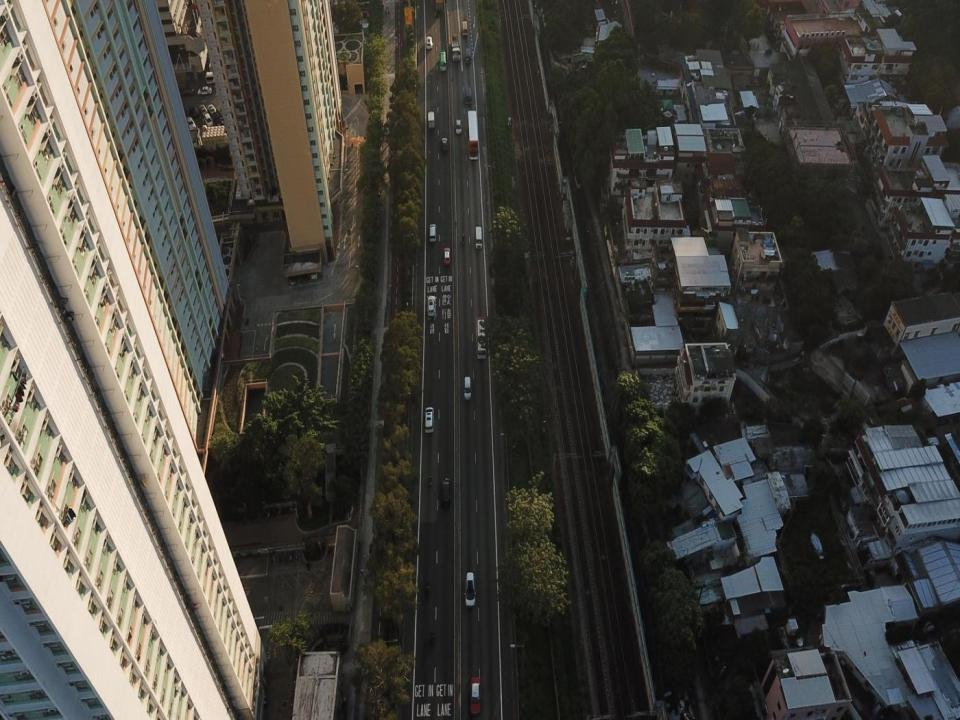bus: (466, 110, 480, 158)
car: (379, 617, 403, 672), (469, 676, 481, 716), (465, 571, 476, 607), (440, 478, 452, 507), (178, 84, 196, 94), (427, 294, 435, 316), (188, 106, 202, 118), (186, 117, 197, 132), (199, 85, 211, 96), (444, 249, 452, 265), (442, 138, 449, 153), (180, 107, 190, 117), (200, 104, 209, 115), (209, 103, 218, 114), (426, 36, 432, 48), (456, 120, 461, 134)
truck: (476, 315, 487, 360), (450, 32, 461, 61)
van: (425, 407, 434, 434), (464, 376, 471, 401), (428, 224, 438, 241), (475, 226, 482, 250), (205, 72, 220, 82), (466, 86, 473, 107), (440, 49, 447, 70), (435, 0, 446, 12), (204, 114, 214, 127), (428, 110, 435, 128), (466, 47, 472, 66), (214, 112, 222, 126), (462, 20, 467, 38)
